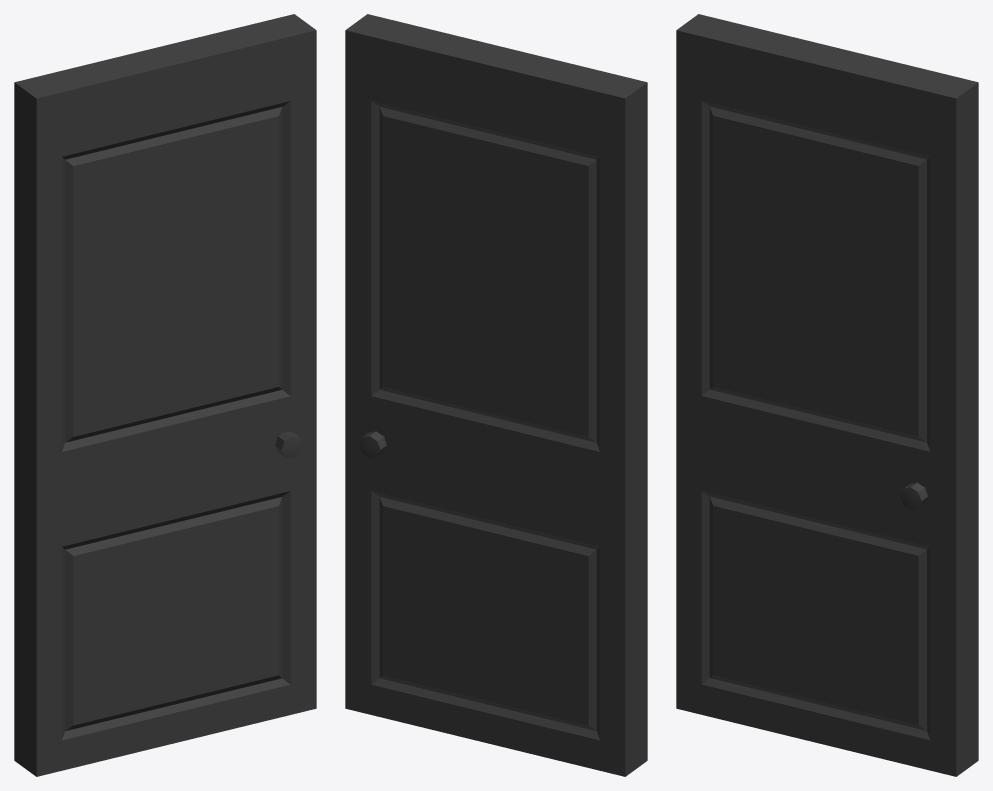
The model's file is door_019.glb.
3 views of the same model, side by side, from view 1: azimuth 30°, elevation 25°; view 2: azimuth 150°, elevation 25°; view 3: azimuth 330°, elevation 25° (orthographic).
Visible parts, largest first — view 1: door_019; view 2: door_019; view 3: door_019.
Boxes of the visible parts, box(x1,y1,x2,y2) form: door_019: box(14, 14, 316, 776); door_019: box(345, 14, 647, 776); door_019: box(676, 14, 978, 776).
Bounding box in the file's own units: 1.05 × 2.42 × 0.2959.
1 material, 1 textured.
